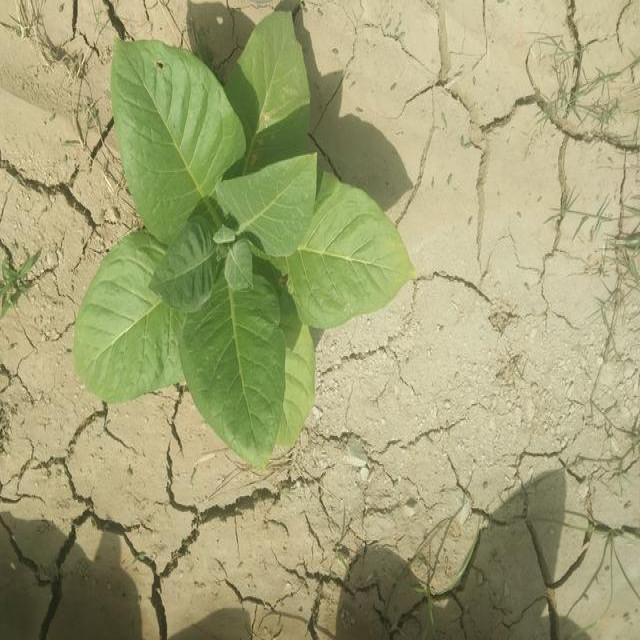crop: (76, 15, 408, 456)
